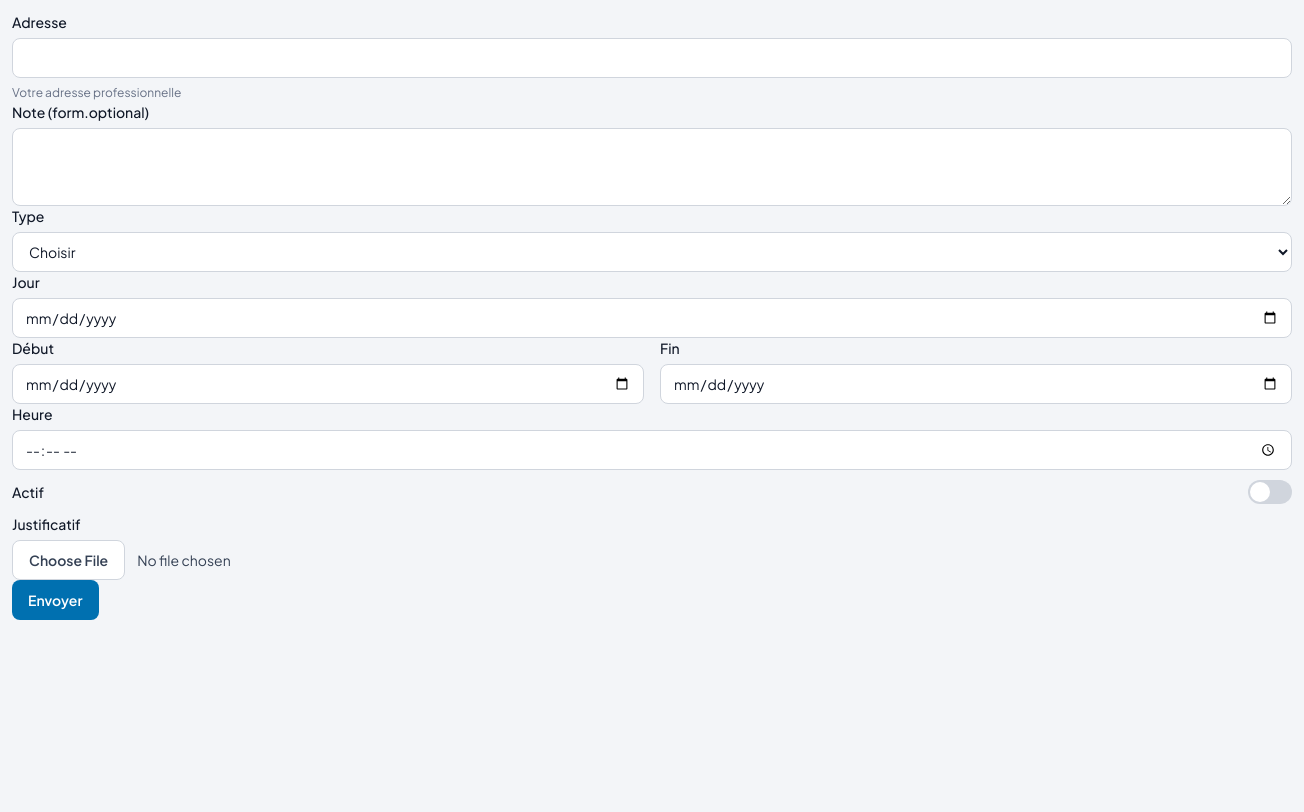
Test case: useProblemForm › lists problems that belong to no field above the form
Click the button "Envoyer". click: {"x": 55, "y": 600}
box: [12,580,98,620]
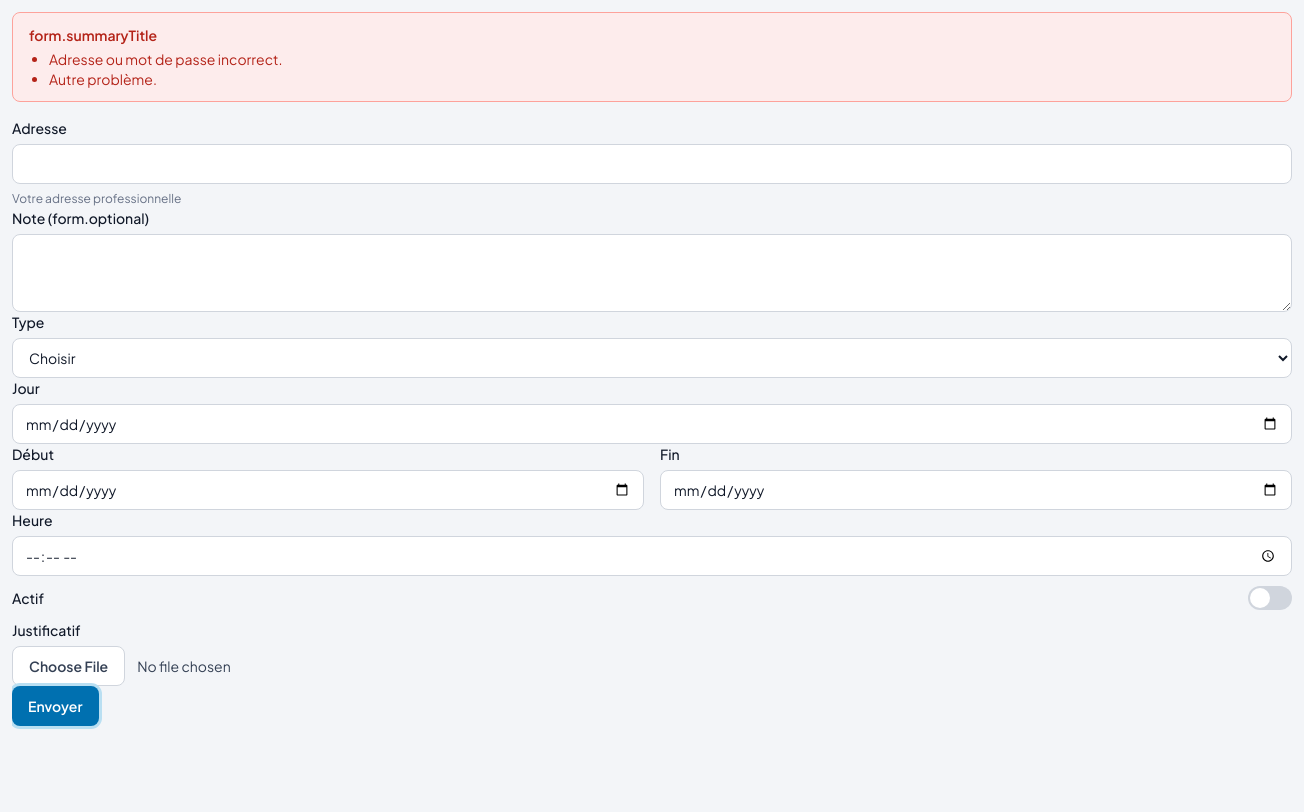
Now the message shows "Adresse ou mot de passe incorrect.", box [49,50,282,68]
Now the message shows "Autre problème.", box [49,70,157,88]
